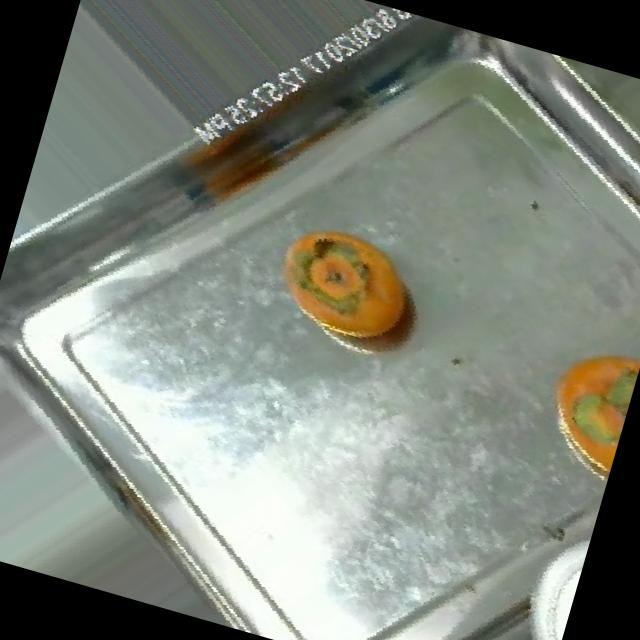Fruit: (240, 192, 460, 382), (512, 315, 640, 491)
